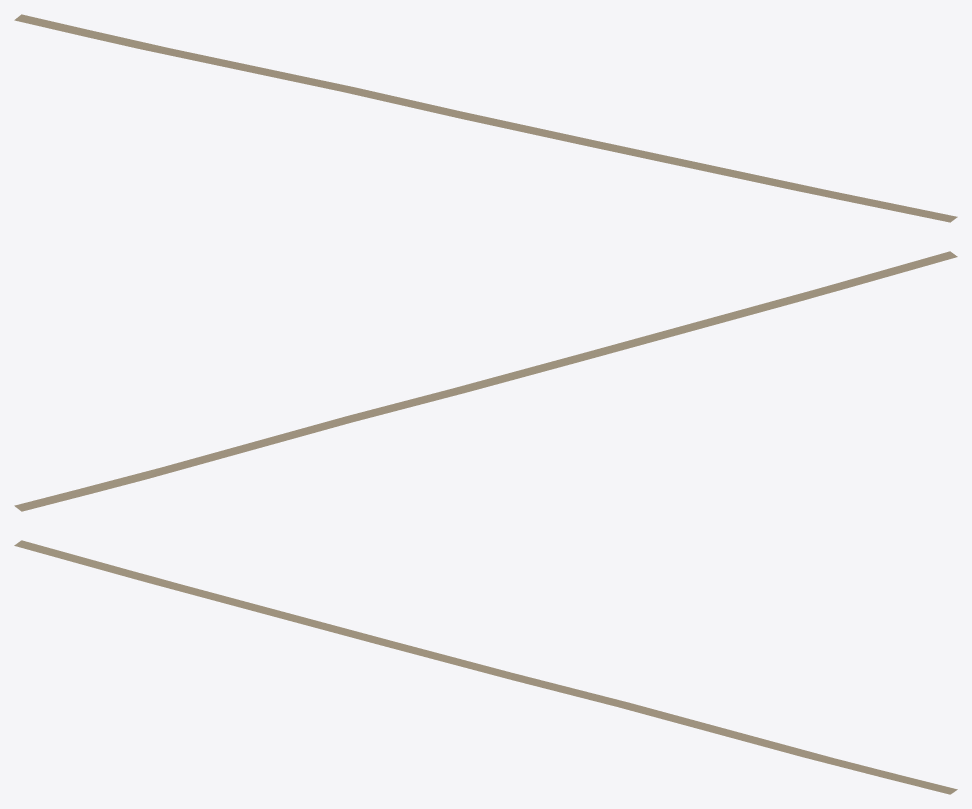
The model's file is farm_3_1_track.glb.
The picture shows the model from 3 angles, top to bottom: view 1: azimuth 90°, elevation 25°; view 2: azimuth 150°, elevation 25°; view 3: azimuth 270°, elevation 25°; orthographic projection.
Visible parts, largest first — view 1: geometry_0; view 2: geometry_0; view 3: geometry_0.
Part boxes in pixels (x1=…): geometry_0: x1=14, y1=14, x2=957, y2=222; geometry_0: x1=14, y1=251, x2=957, y2=511; geometry_0: x1=14, y1=540, x2=957, y2=794.
Size of the model in its own units: 117 by 5.58 by 202.
